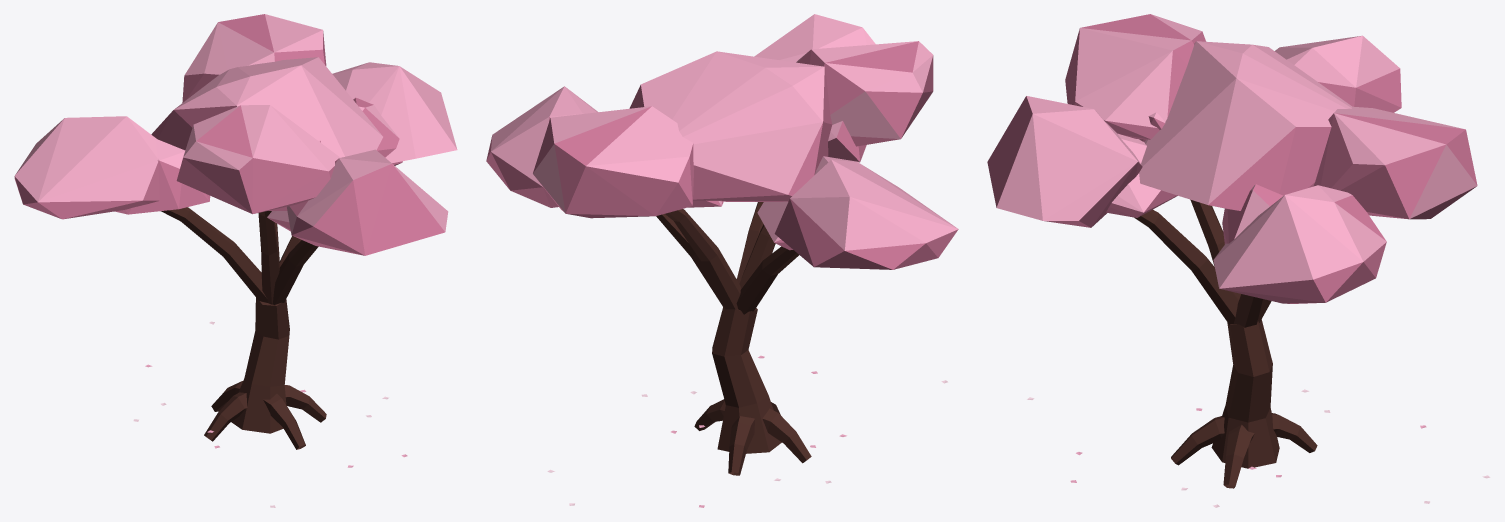
The model's file is tree_cherry.glb.
3 renders of one model, left to right at view 1: azimuth 30°, elevation 25°; view 2: azimuth 150°, elevation 25°; view 3: azimuth 270°, elevation 25°, orthographic. The views are drawn at different scales.
Visible parts, largest first — view 1: TreeCherry; view 2: TreeCherry; view 3: TreeCherry.
Boxes of the visible parts, bbox=[...] form: TreeCherry: bbox=[14, 14, 457, 507]; TreeCherry: bbox=[486, 14, 958, 507]; TreeCherry: bbox=[987, 14, 1490, 507].
Bounding box in the file's own units: 4.97 × 4.07 × 4.62.
